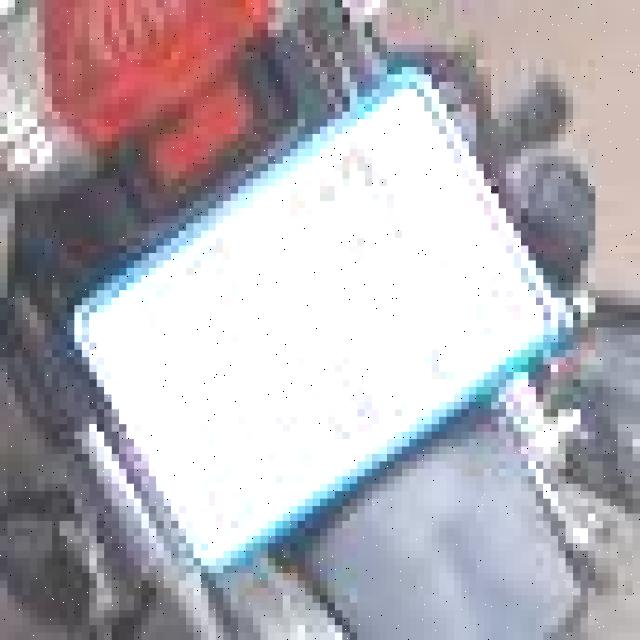0: (272, 320, 386, 480), (224, 357, 323, 516)
1: (351, 120, 445, 272), (364, 283, 456, 417)
6: (136, 259, 237, 399), (435, 234, 530, 376)
7: (186, 210, 277, 369)
8: (168, 403, 260, 562)
D: (287, 153, 390, 312)
